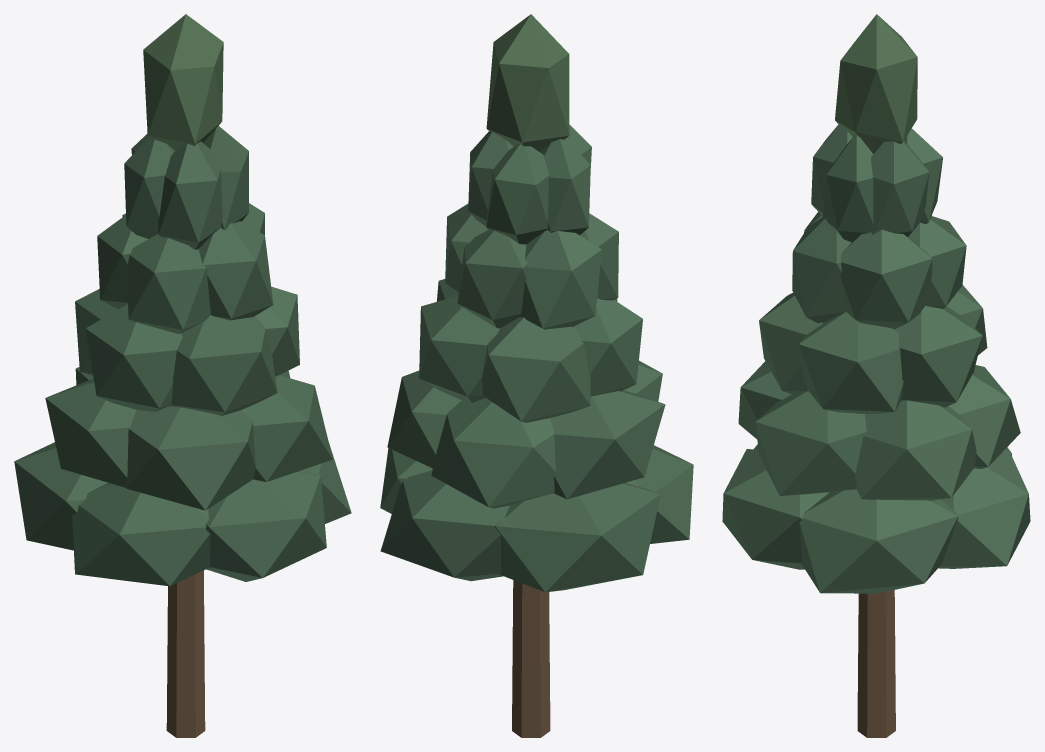
The model's file is tree_pine.glb.
3 views of the same model, side by side, from view 1: azimuth 30°, elevation 25°; view 2: azimuth 150°, elevation 25°; view 3: azimuth 270°, elevation 25° (orthographic).
Parts seen in each view (by area): view 1: tree_pine_visual; view 2: tree_pine_visual; view 3: tree_pine_visual.
Boxes of the visible parts, <box> form: tree_pine_visual: <box>14,14,351,737</box>; tree_pine_visual: <box>380,14,693,737</box>; tree_pine_visual: <box>722,14,1030,737</box>.
Size of the model in its own units: 3.16 by 7.81 by 3.04.
